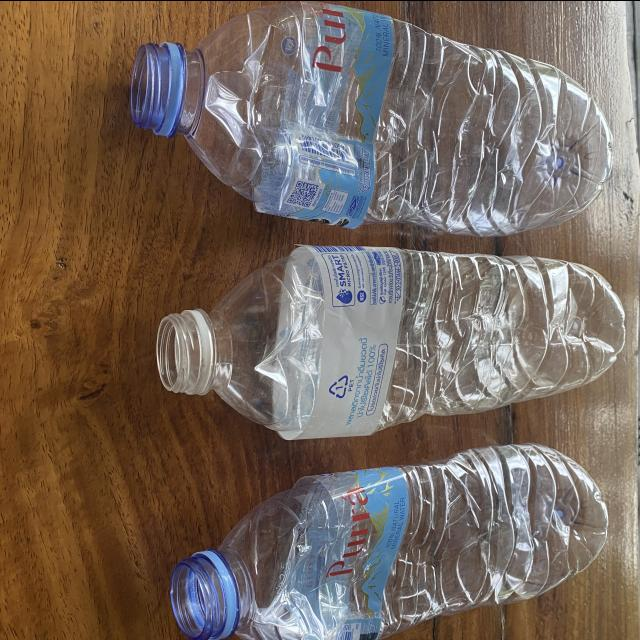plastik: (132, 0, 612, 235), (157, 244, 625, 438), (170, 443, 608, 640)
